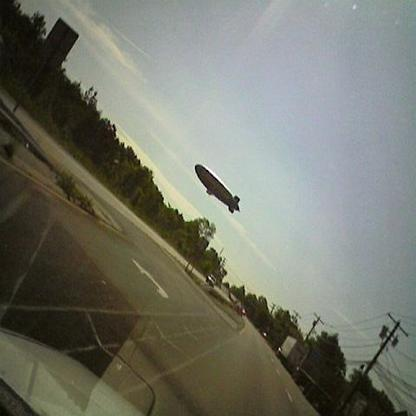Airship: (193, 160, 246, 220)
